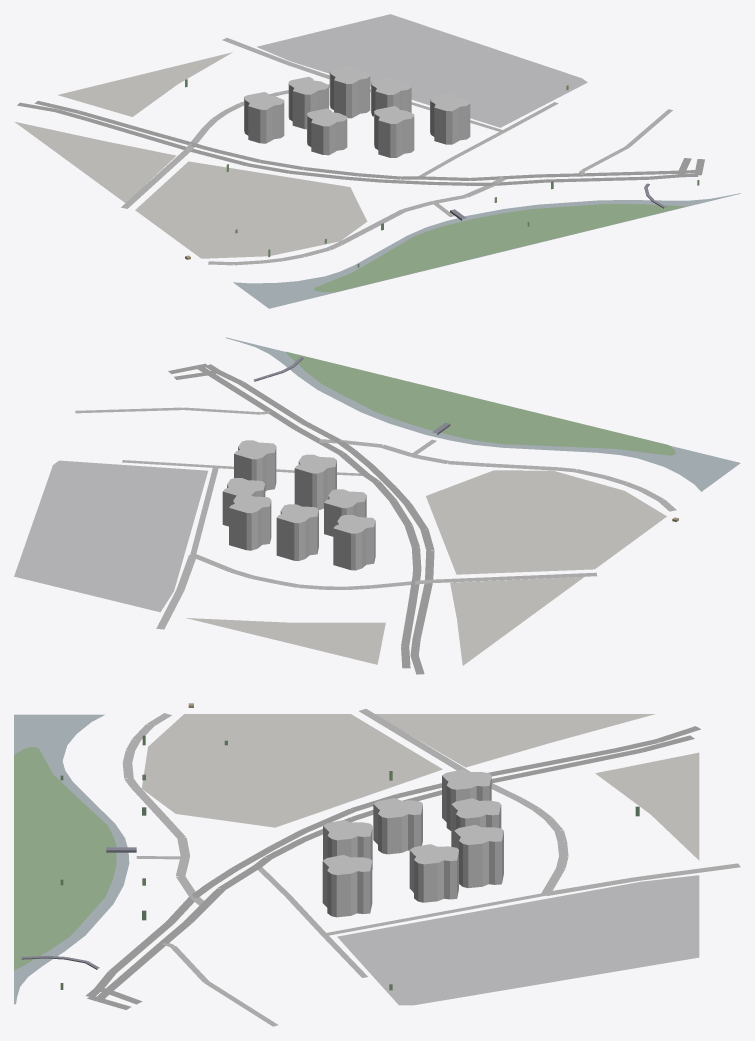
3 renders of one model, top to bottom at view 1: azimuth 30°, elevation 25°; view 2: azimuth 150°, elevation 25°; view 3: azimuth 270°, elevation 25°, orthographic. The views are drawn at different scales.
Size of the model in its own units: 551 by 35.69 by 530.
